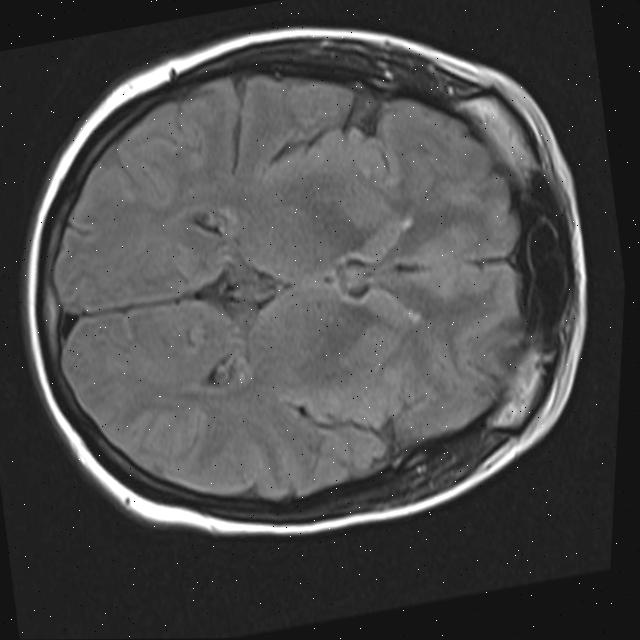NoTumor: (2, 19, 576, 547)
